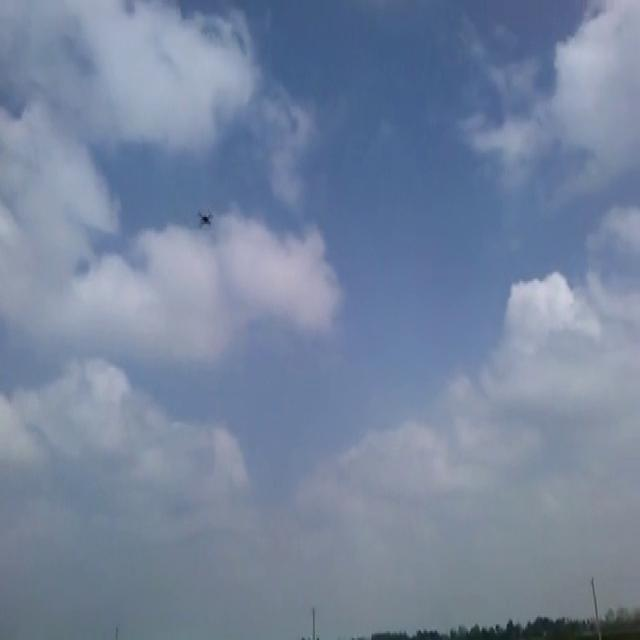drone: (194, 205, 214, 231)
